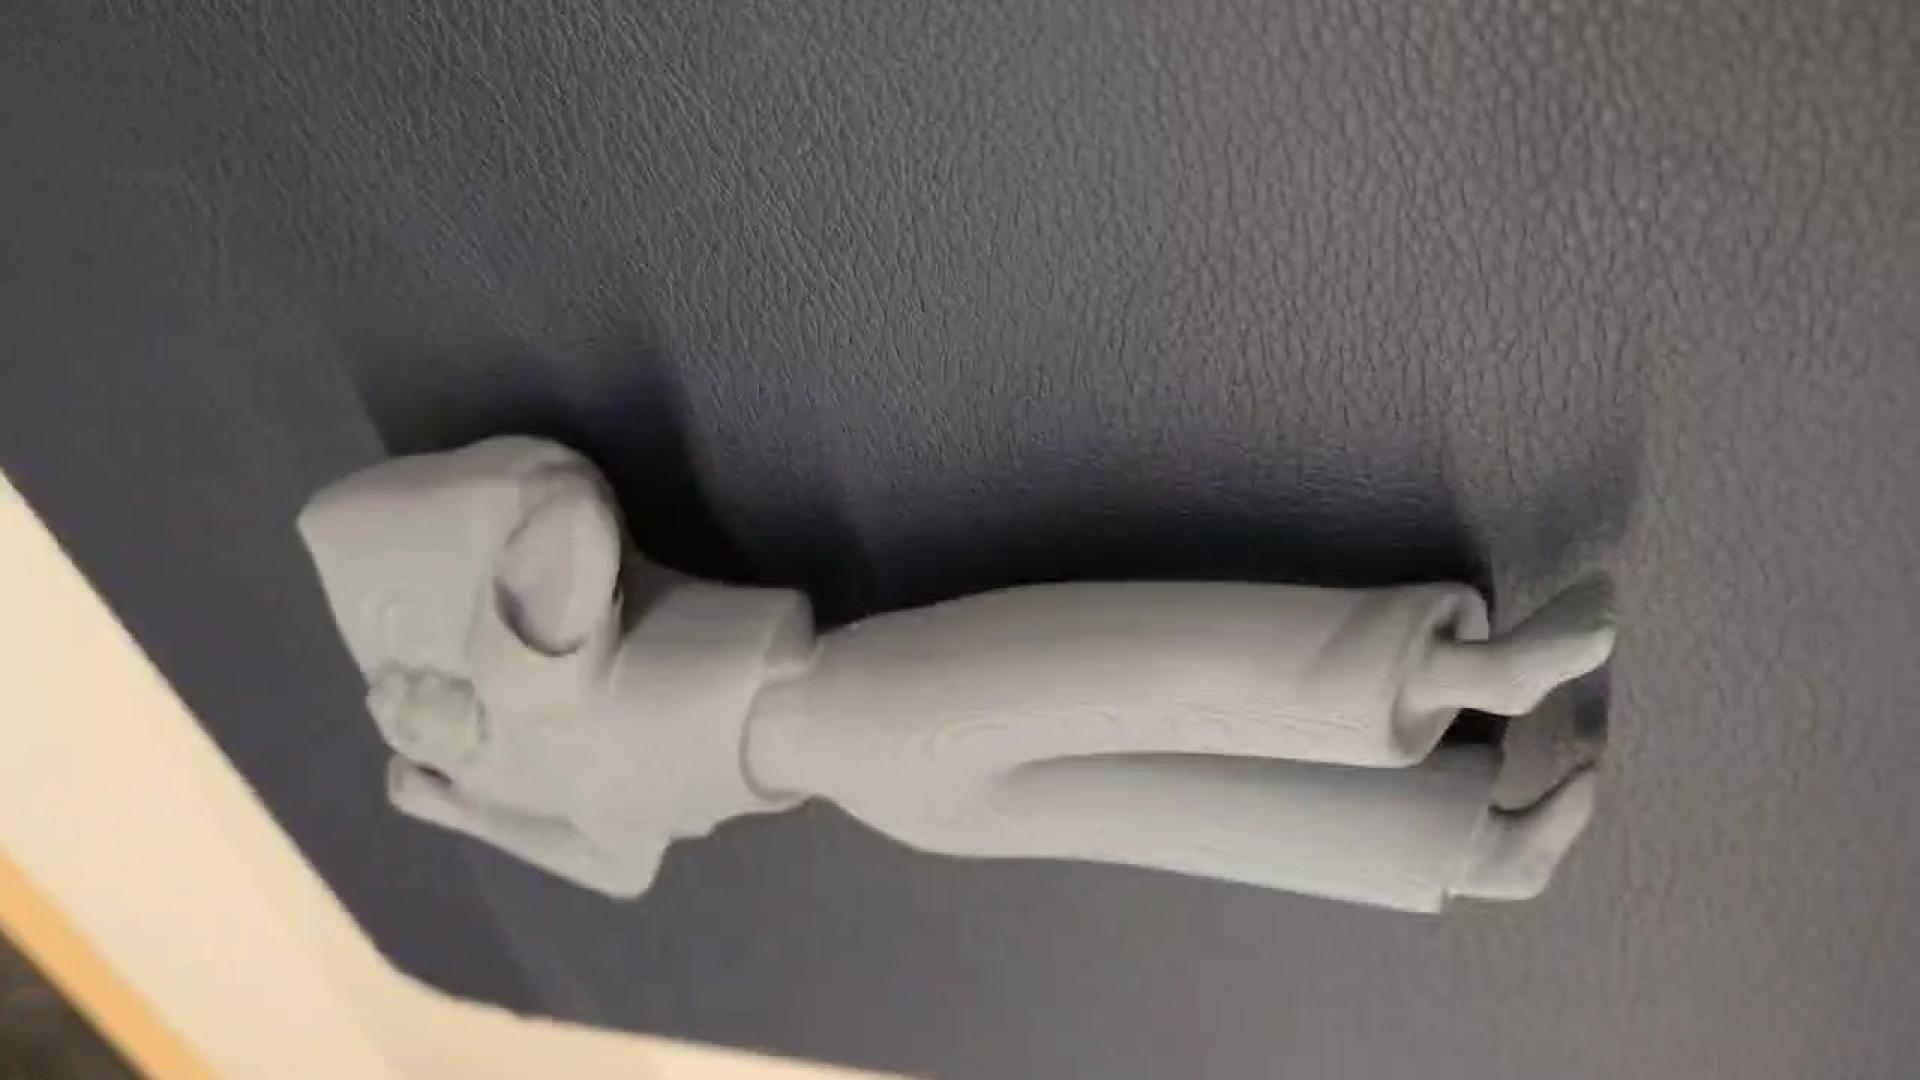Bad-style: (293, 430, 1618, 931)
